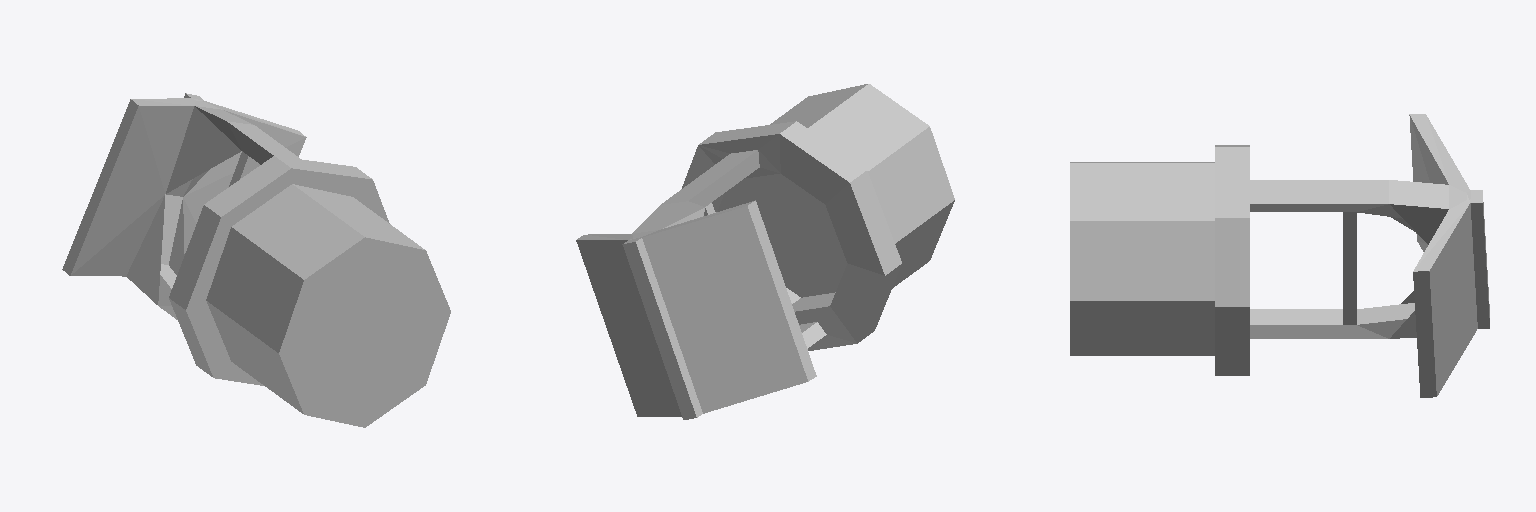
File: POZO.obj
3 renders of one model, left to right at view 1: azimuth 30°, elevation 25°; view 2: azimuth 150°, elevation 25°; view 3: azimuth 270°, elevation 25°, orthographic.
Visible parts, largest first — view 1: Circle_Circle.001; view 2: Circle_Circle.001; view 3: Circle_Circle.001.
Part boxes in pixels (x1,y1,x2,y2): Circle_Circle.001: (62, 93, 450, 427); Circle_Circle.001: (576, 84, 954, 419); Circle_Circle.001: (1070, 114, 1489, 397).
Bounding box in the file's own units: 1.65 × 1.56 × 2.56.